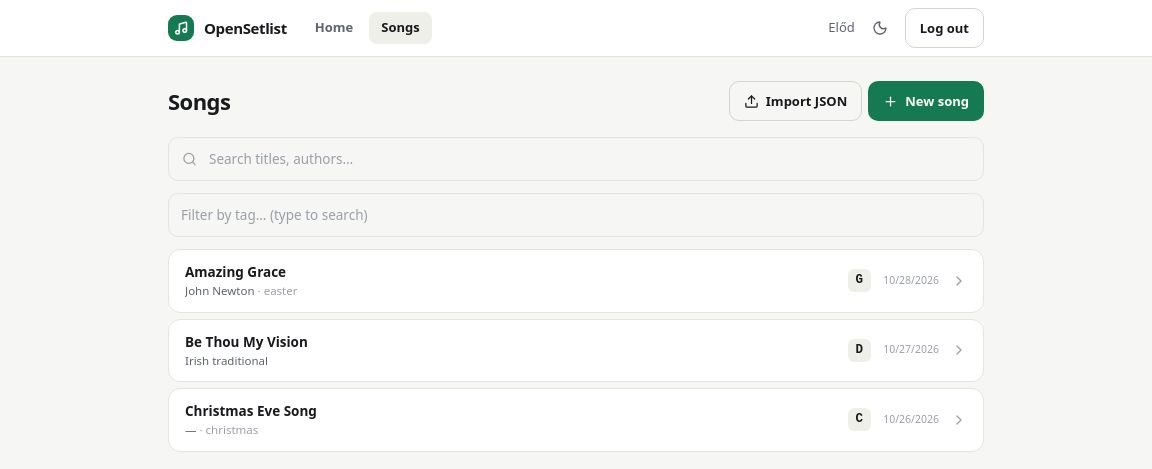
Test case: SongsPage › offers a substring tag filter (tagsLike) when no exact tag matches
Expected: the text "Amazing Grace" is shown, [185,263,286,281]
Type "christ" into the field labelled "Filter by tag" at (576, 215), box [168,193,984,237]
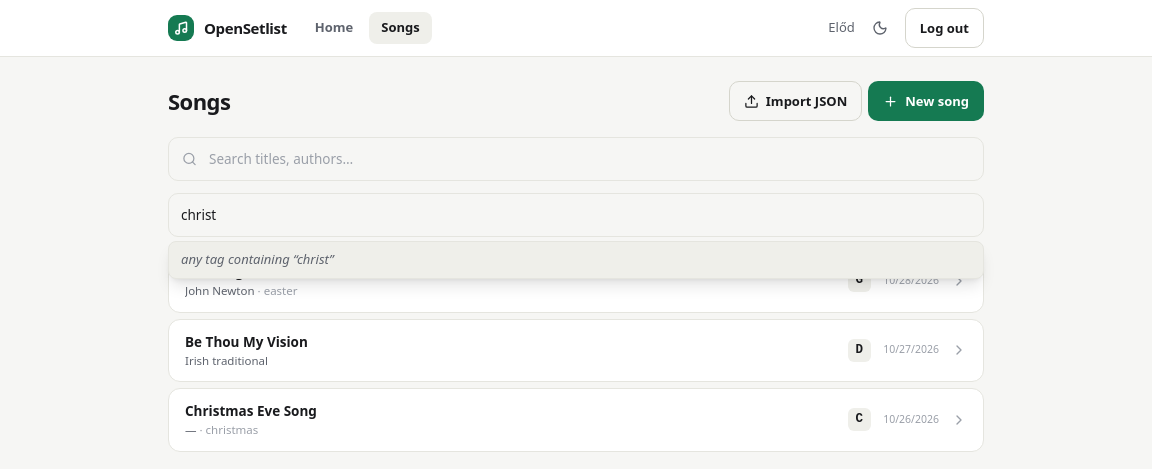
Press the mouse on the button "any tag containing “christ”" at (239, 259), box [173,246,979,274]
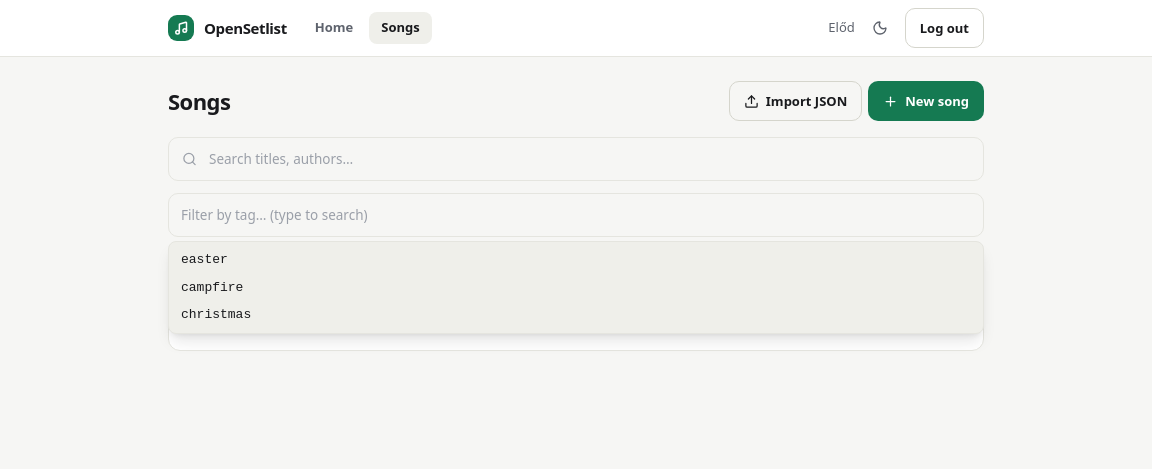
Expected: the text "Christmas Eve Song" is shown, [185,302,317,320]
Now the button "Amazing Grace" is gone
